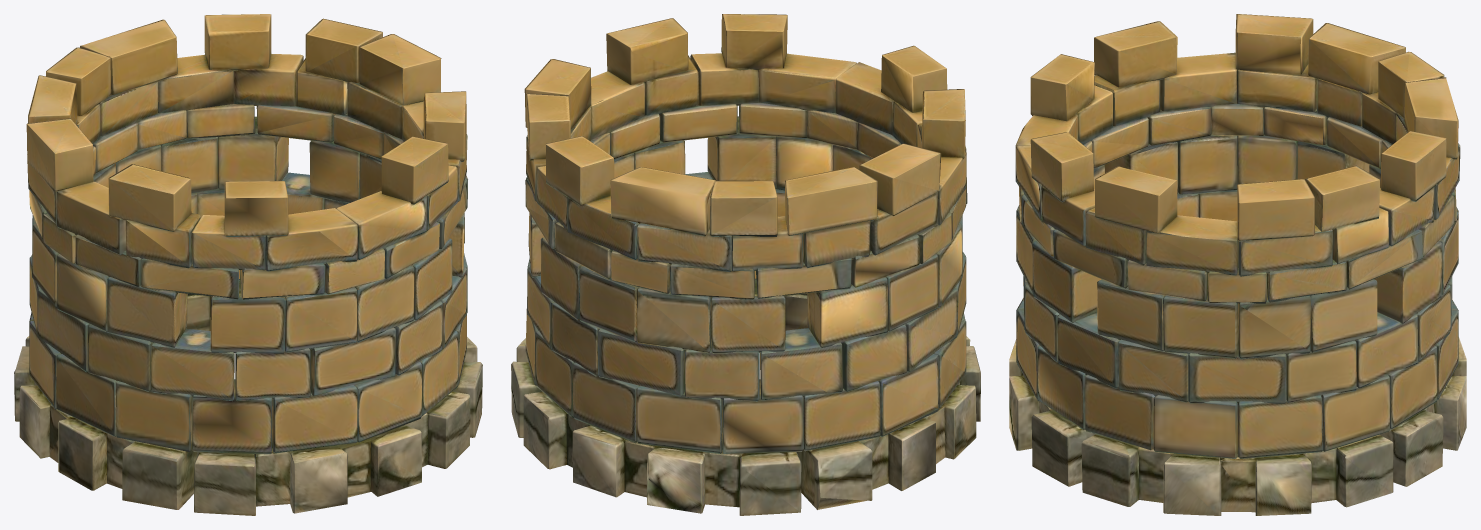
Rendered from tower.glb.
3 views of the same model, side by side, from view 1: azimuth 30°, elevation 25°; view 2: azimuth 150°, elevation 25°; view 3: azimuth 270°, elevation 25° (orthographic).
Size of the model in its own units: 4 by 3 by 4.
Materials: 1 (1 with a texture image).
